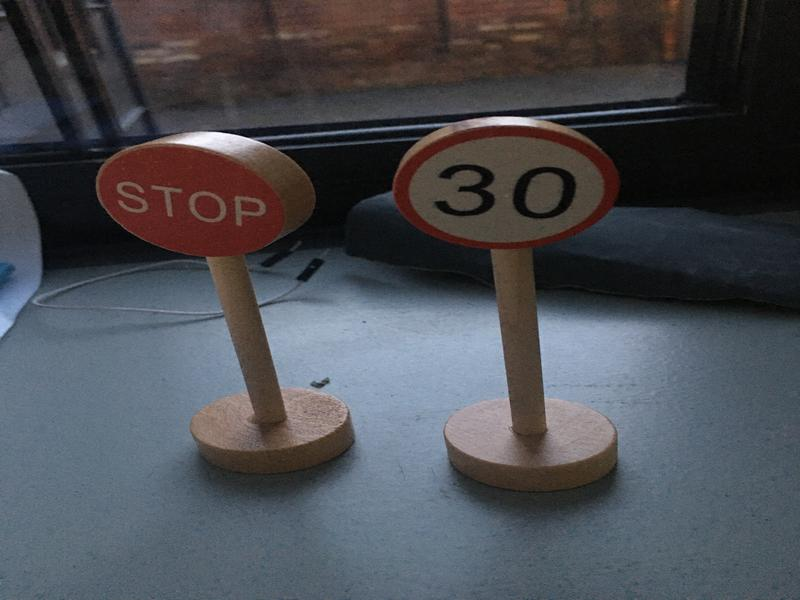Traffic_Sign_30: (395, 130, 619, 247)
Traffic_Sign_Stop: (95, 145, 286, 256)
